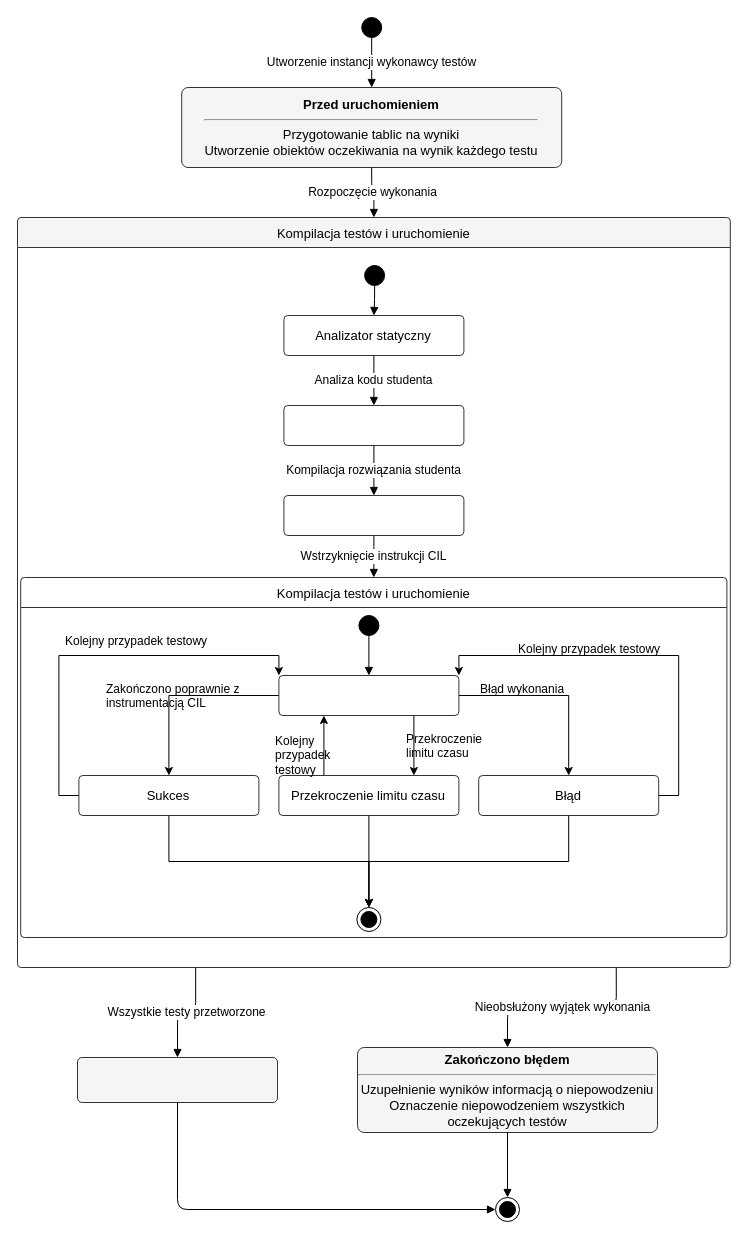
This 748x1239 diagram has some shape labels left out. The centre of each missing label's shape, as x and y in pixels:
Czekanie na wyniki testów: (x=368, y=695)
Instrumentator CIL: (x=373, y=515)
Kompilator: (x=373, y=425)
Zakończono pomyślnie: (x=177, y=1079)
